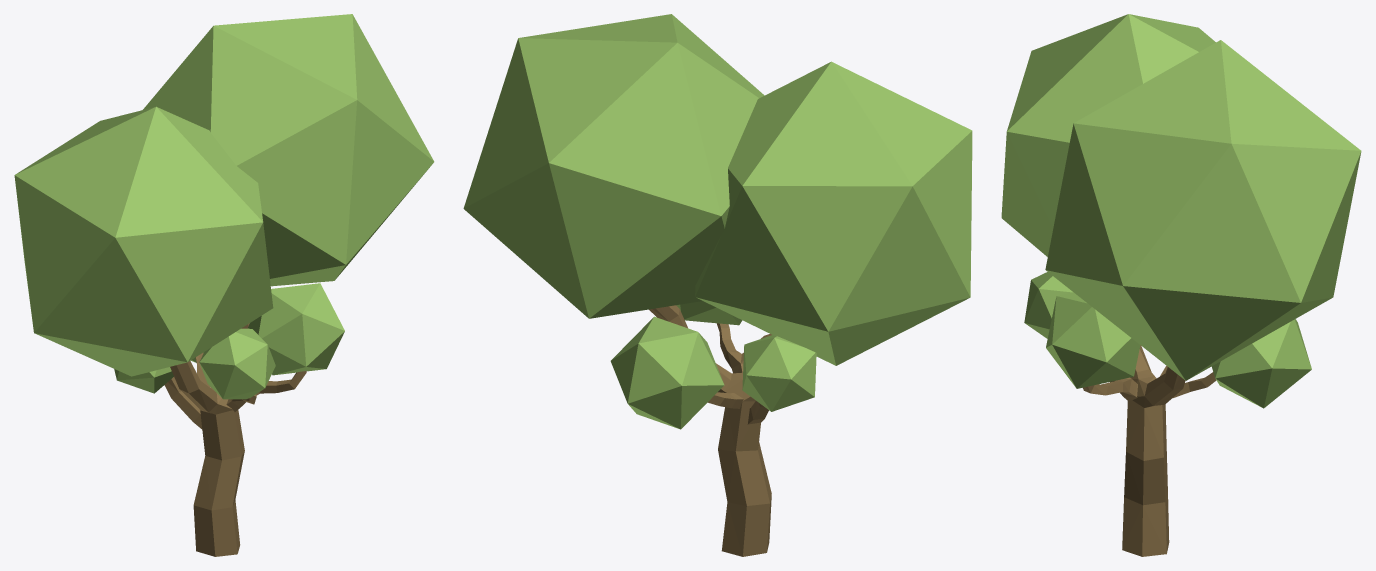
File: Tree2.dae
3 views of the same model, side by side, from view 1: azimuth 30°, elevation 25°; view 2: azimuth 150°, elevation 25°; view 3: azimuth 270°, elevation 25° (orthographic). The views are drawn at different scales.
Parts seen in each view (by area): view 1: Tree_2; view 2: Tree_2; view 3: Tree_2.
Part boxes in pixels (x1,y1,x2,y2): Tree_2: (14, 14, 434, 556); Tree_2: (463, 14, 972, 556); Tree_2: (1001, 14, 1361, 556).
Bounding box in the file's own units: 5.9 × 4.29 × 6.87.
